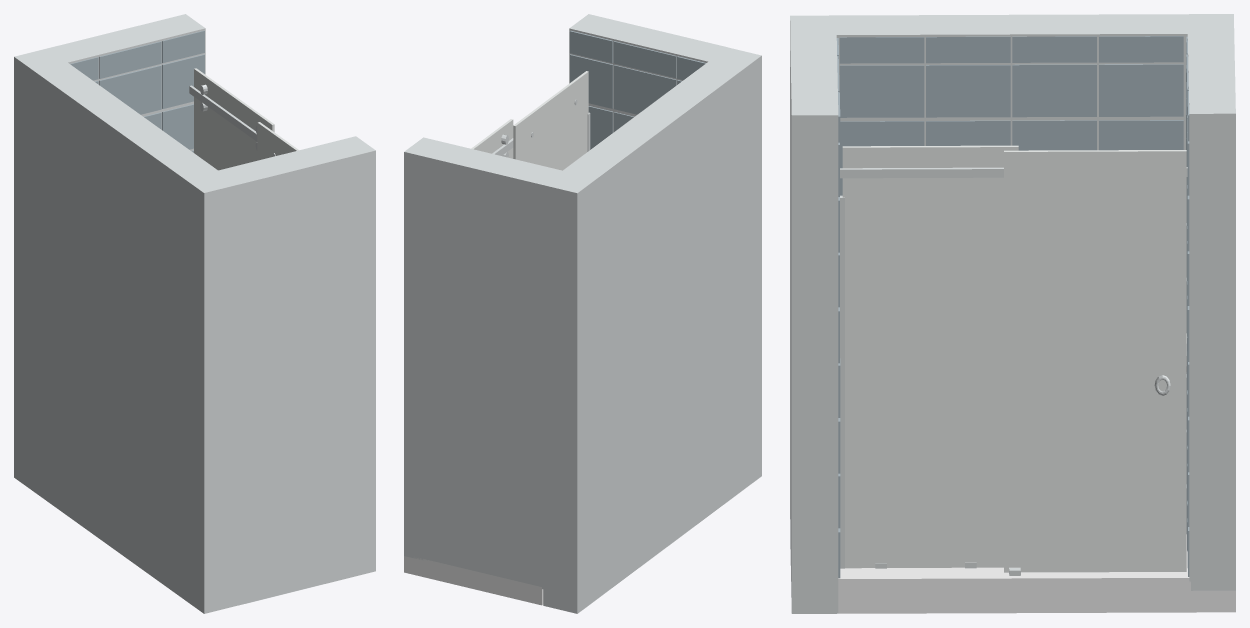
The model's file is shower01.gltf.
The picture shows the model from 3 angles, left to right: view 1: azimuth 30°, elevation 25°; view 2: azimuth 150°, elevation 25°; view 3: azimuth 270°, elevation 25°; orthographic projection. The views are drawn at different scales.
Parts seen in each view (by area): view 1: group2069246490, group412830914, group232254235, group1268541014, group563226877, group1588092611, group1198615719, group876571541, group1790589474, group2142710330, group413449833, group1805511526; view 2: group1790589474, group412830914, group232254235, group2069246490, group1588092611, group413449833, group1268541014, group1399364795, group2142710330, group563226877; view 3: group563226877, group413449833, group2069246490, group1790589474, group1031167705, group412830914, group1867324932, group484513667, group732515117, group1711208454, group983796945, group786762295 (+7 smaller).
Part boxes in pixels (left/top/right/bottom): group2069246490: left=218, top=136, right=375, bottom=605; group412830914: left=14, top=48, right=237, bottom=379; group232254235: left=14, top=295, right=237, bottom=613; group1268541014: left=127, top=323, right=237, bottom=430; group563226877: left=194, top=68, right=274, bottom=170; group1588092611: left=14, top=242, right=92, bottom=350; group1198615719: left=162, top=30, right=204, bottom=152; group876571541: left=99, top=41, right=161, bottom=129; group1790589474: left=48, top=14, right=205, bottom=150; group2142710330: left=93, top=300, right=127, bottom=375; group413449833: left=257, top=122, right=298, bottom=160; group1805511526: left=189, top=85, right=257, bottom=141; group1790589474: left=404, top=137, right=561, bottom=589; group412830914: left=543, top=47, right=761, bottom=379; group232254235: left=543, top=293, right=761, bottom=613; group2069246490: left=569, top=14, right=727, bottom=149; group1588092611: left=543, top=321, right=653, bottom=430; group413449833: left=513, top=71, right=588, bottom=170; group1268541014: left=687, top=240, right=761, bottom=348; group1399364795: left=404, top=556, right=543, bottom=605; group2142710330: left=654, top=298, right=687, bottom=373; group563226877: left=471, top=119, right=513, bottom=158; group563226877: left=1004, top=150, right=1186, bottom=572; group413449833: left=842, top=145, right=1018, bottom=568; group2069246490: left=790, top=35, right=840, bottom=613; group1790589474: left=1187, top=33, right=1235, bottom=590; group1031167705: left=838, top=564, right=1190, bottom=613; group412830914: left=790, top=14, right=1234, bottom=241; group1867324932: left=1099, top=36, right=1183, bottom=150; group484513667: left=839, top=37, right=924, bottom=195; group732515117: left=1012, top=64, right=1096, bottom=117; group1711208454: left=926, top=65, right=1010, bottom=117; group983796945: left=1012, top=120, right=1096, bottom=150; group786762295: left=1012, top=36, right=1096, bottom=62.
Bounding box in the file's own units: 1.44 × 3.31 × 2.68.
